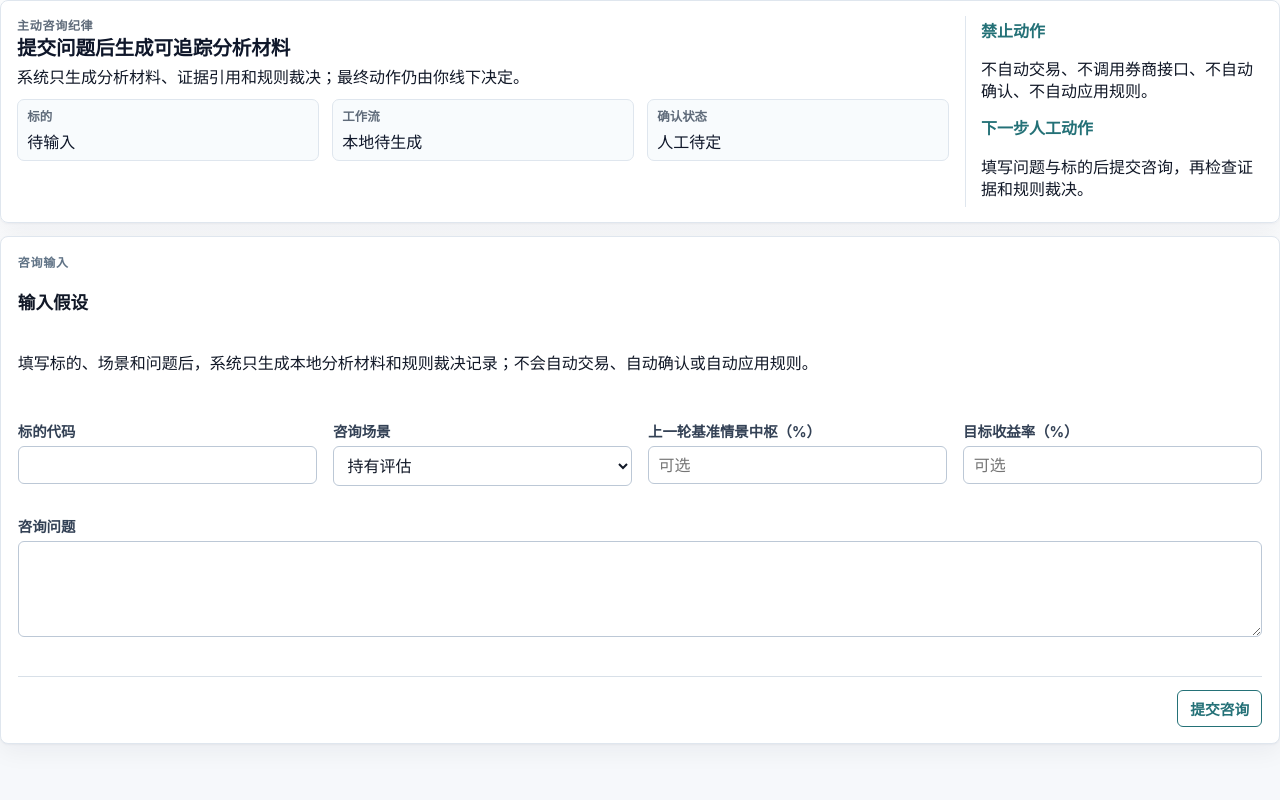
DecisionDetailPage › submits consultation from consultation route
Expected: the heading "输入假设" is shown, [18,292,88,313]
Expected: the text "填写标的、场景和问题后，系统只生成本地分析材料和规则裁决记录；不会自动交易、自动确认或自动应用规则。" is shown, [18,350,946,374]
Type "是否继续持有" into the text box labelled "咨询问题" at [640, 589], box [18,541,1262,637]
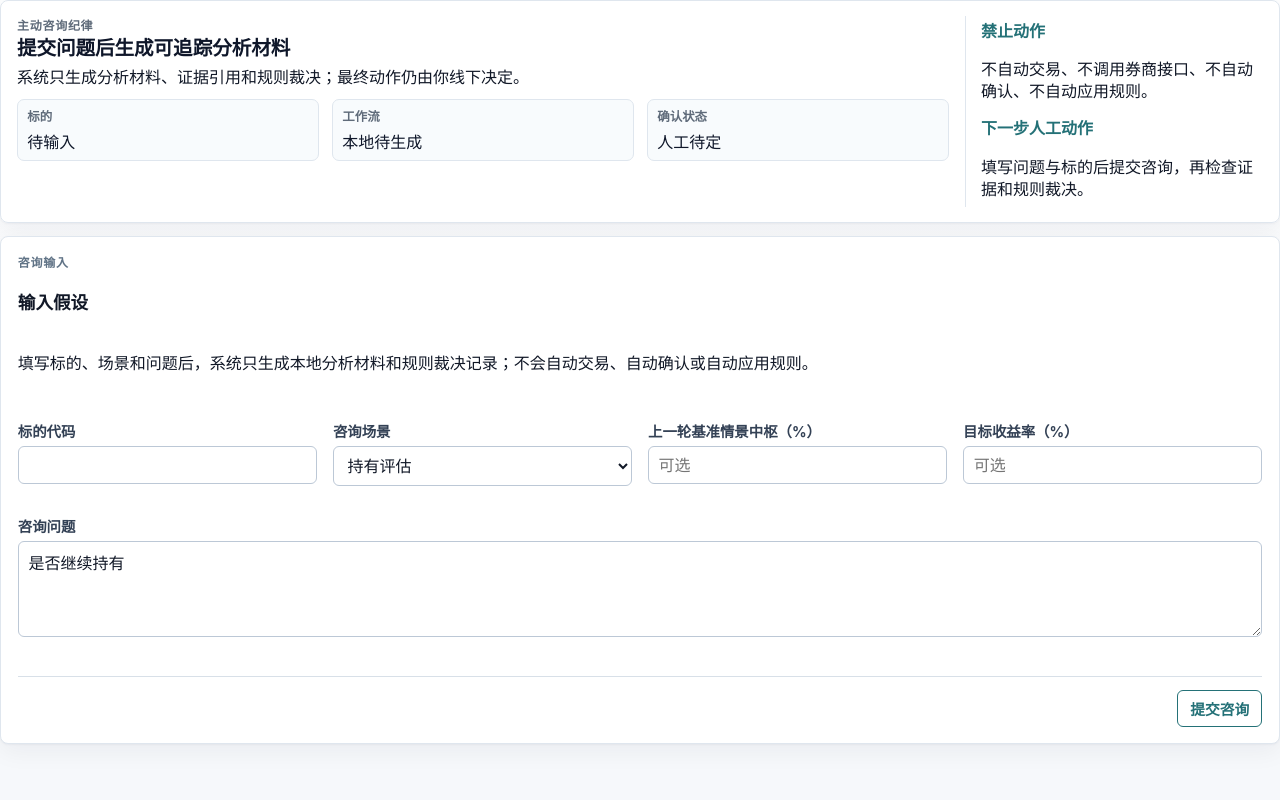
Type "510300" into the field labelled "标的代码" at [167, 464], box [18,446,317,484]
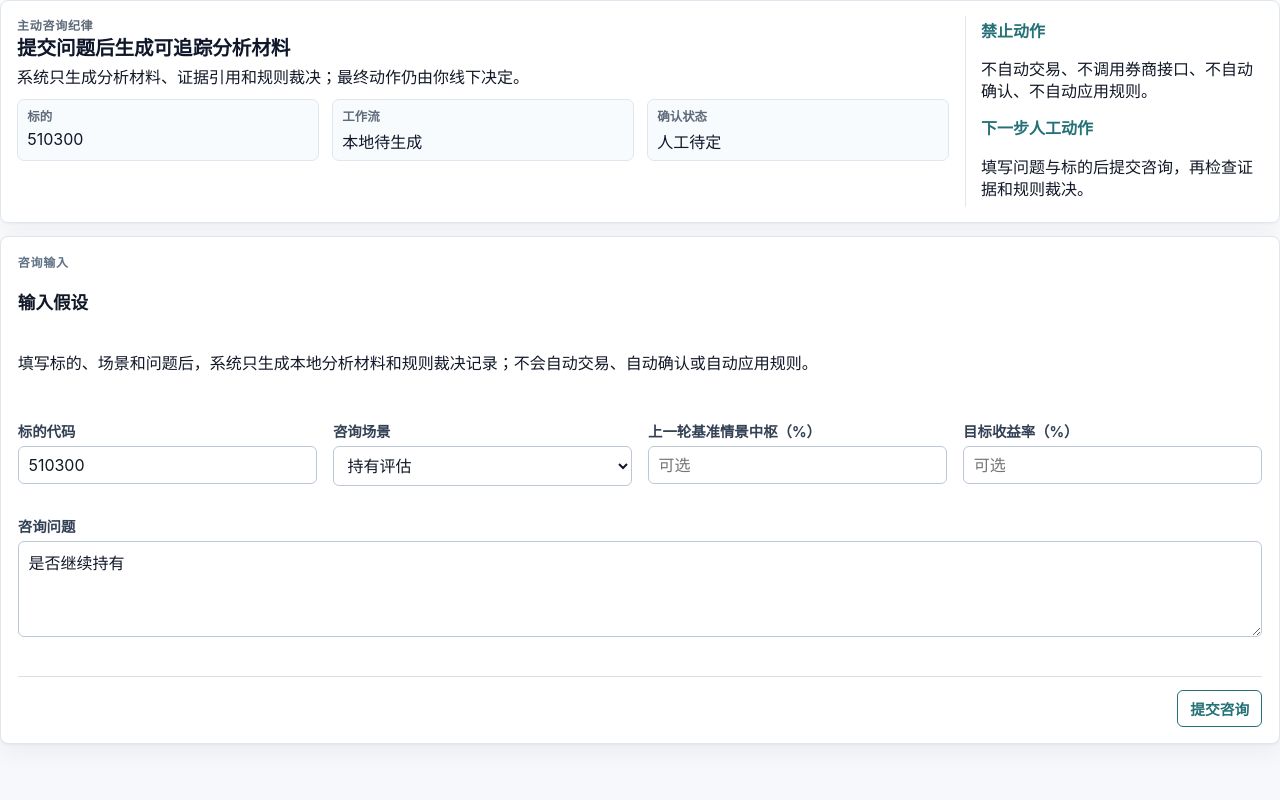
Select "持有评估" in the dropdown labelled "咨询场景" at [482, 466], box [333,446,632,486]
Click the button "提交咨询" at [1220, 709], box [1177,690,1262,727]
(page scrolled)
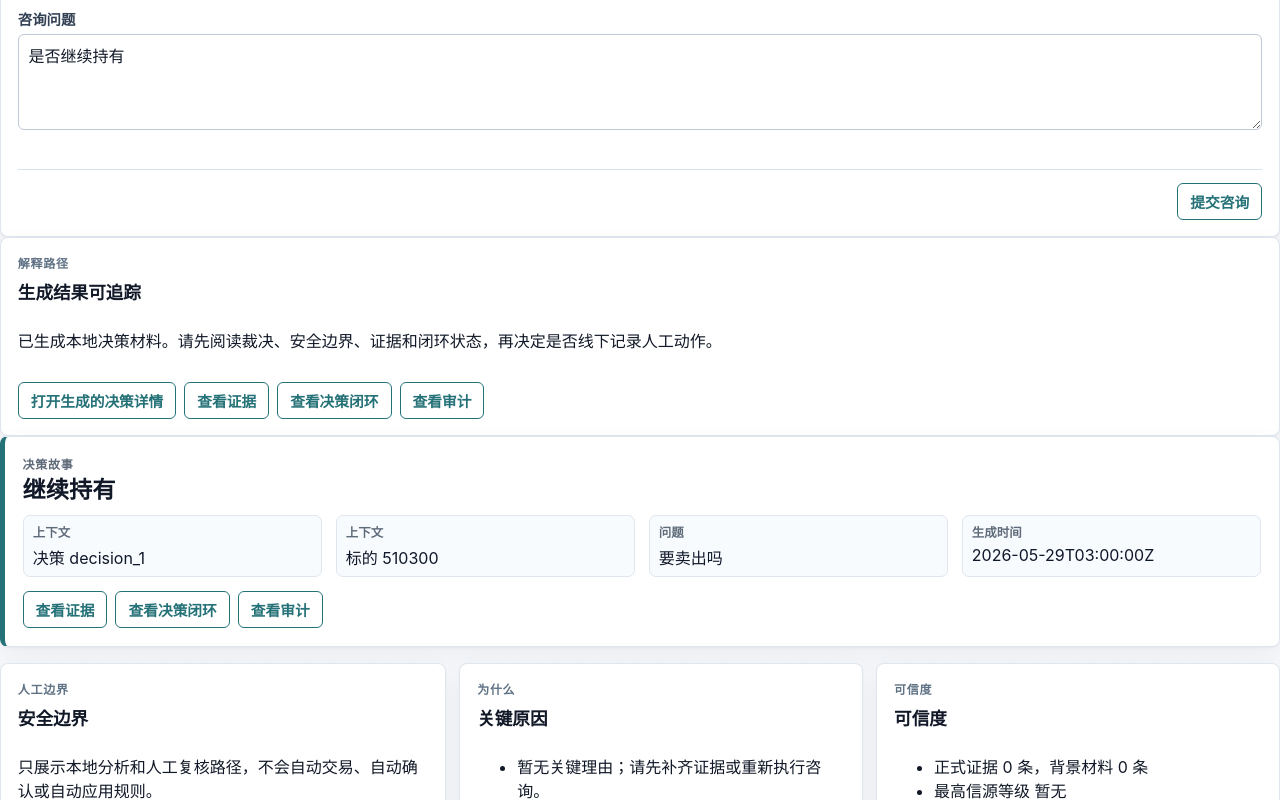
Expected: the heading "继续持有" is shown, [23,476,115,504]
